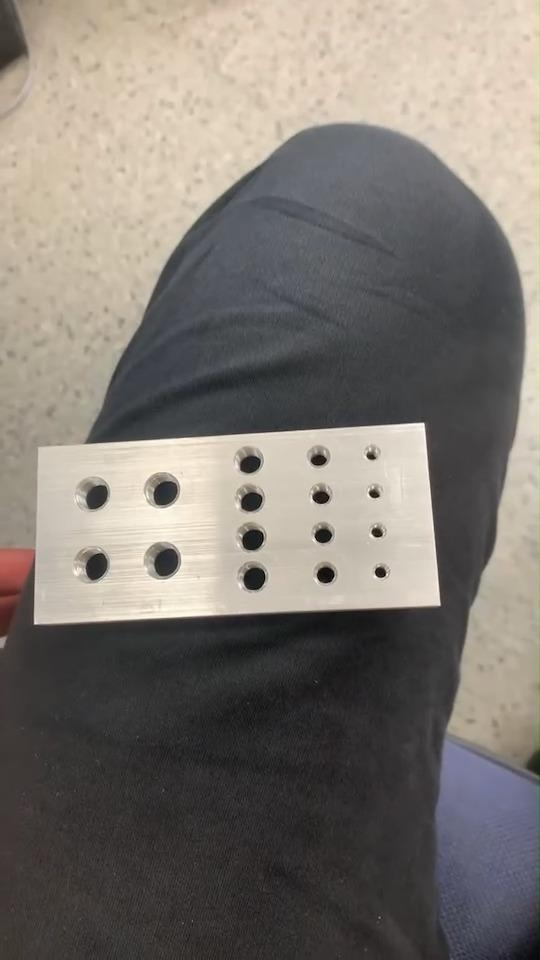hole: (70, 474, 115, 518), (139, 536, 183, 580), (142, 470, 184, 512), (72, 544, 112, 586), (232, 443, 268, 478), (233, 560, 270, 592), (233, 522, 268, 554), (232, 483, 268, 514), (308, 521, 340, 548), (304, 444, 334, 471), (312, 560, 340, 588), (307, 480, 336, 507), (361, 442, 384, 465), (364, 482, 386, 504), (369, 522, 388, 544), (372, 562, 391, 584)
